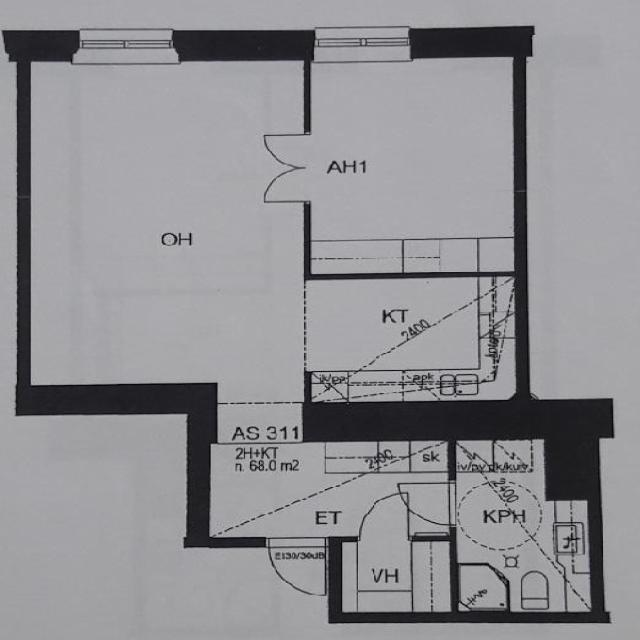door: (269, 538, 325, 594), (399, 483, 457, 524), (359, 497, 409, 543), (263, 134, 311, 168), (263, 168, 311, 201)
